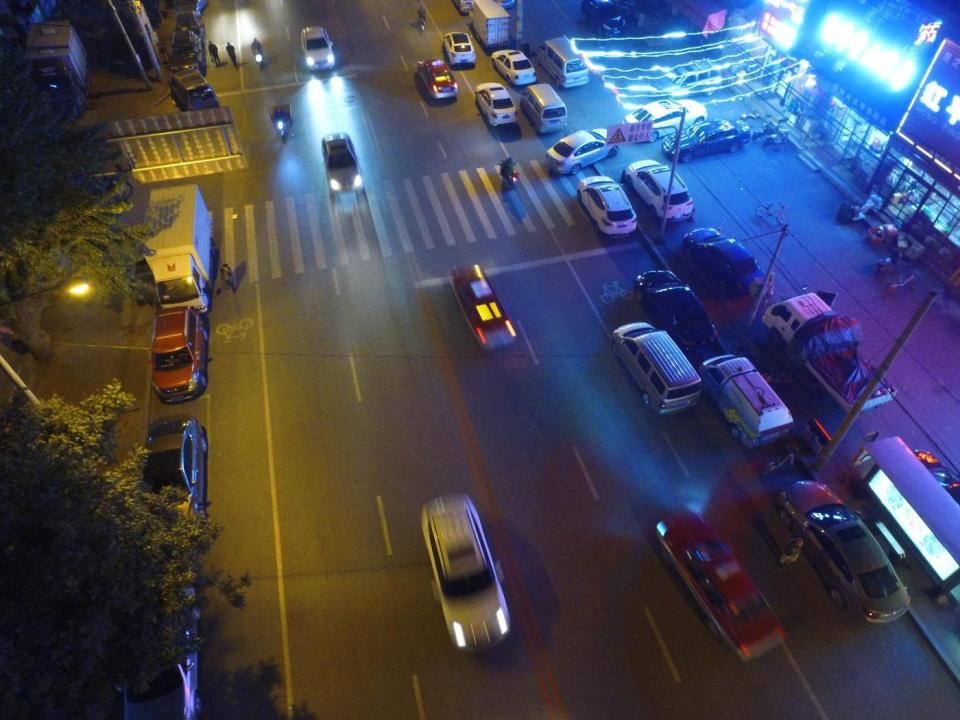car: (776, 478, 910, 624), (654, 514, 782, 659), (417, 493, 512, 654), (117, 582, 200, 719), (139, 412, 207, 536), (632, 270, 718, 354), (446, 264, 517, 352), (685, 227, 768, 297), (151, 305, 206, 405), (621, 160, 694, 225), (908, 442, 958, 536), (662, 117, 751, 163), (577, 175, 637, 238), (625, 99, 707, 141), (546, 127, 618, 173), (320, 133, 362, 197), (469, 83, 518, 126), (169, 71, 218, 113), (416, 59, 460, 100), (300, 25, 336, 71), (581, 0, 627, 35), (168, 29, 204, 72), (492, 50, 536, 85), (440, 29, 475, 68), (175, 12, 205, 40), (175, 0, 204, 19), (452, 0, 487, 14)
truck: (765, 284, 896, 408), (54, 106, 248, 184), (142, 184, 216, 313), (22, 20, 88, 120), (468, 0, 511, 48)
van: (698, 354, 795, 450), (612, 323, 702, 416), (537, 36, 591, 88), (516, 80, 566, 136)
